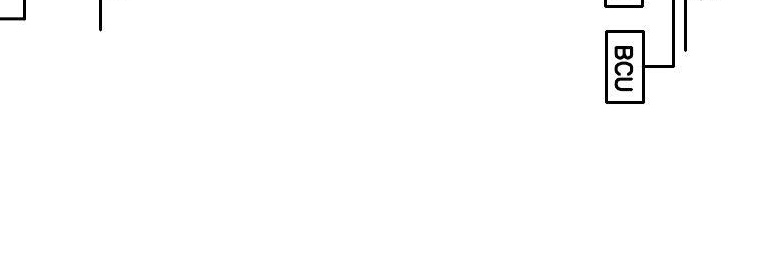BCU: (604, 29, 646, 105)
